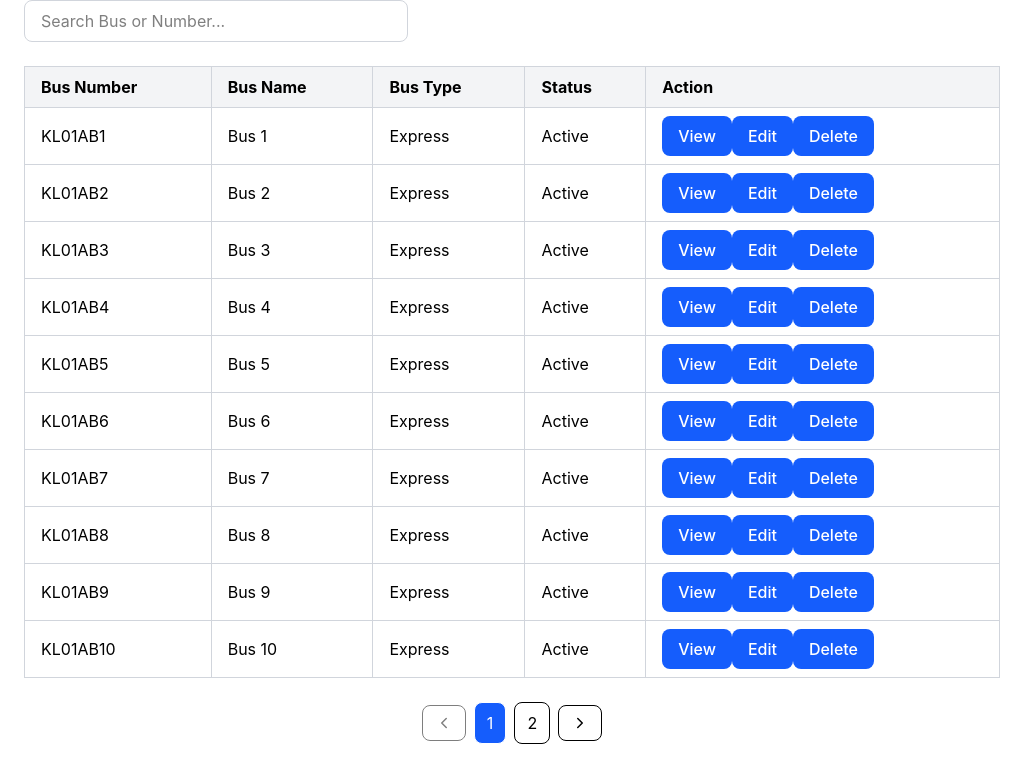
Test case: BusList - step 1 › should display previous page buses when Previous button is clicked
(page scrolled)
expect the text "KL01AB1" is shown: met, box x1=24 y1=108 x2=211 y2=164
Click the button named "next" at (580, 723), box x1=558 y1=705 x2=602 y2=741
(page scrolled)
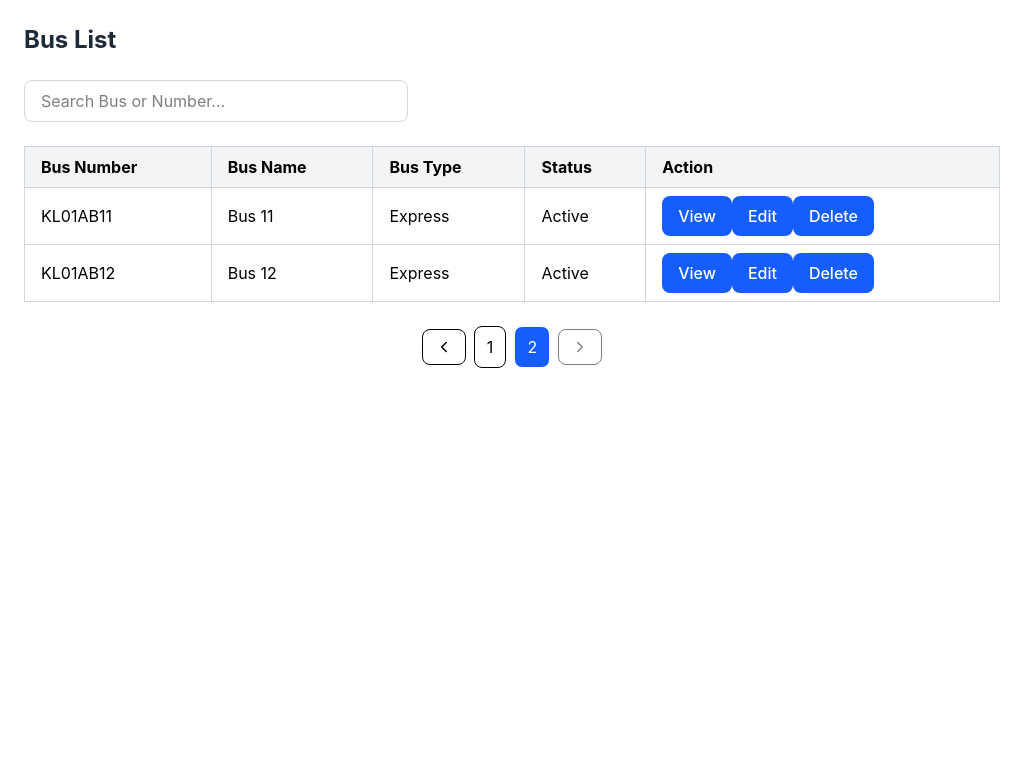
expect the text "KL01AB11" is shown: met, box x1=24 y1=188 x2=211 y2=244
Click the button named "previous" at (444, 347), box x1=422 y1=329 x2=466 y2=365
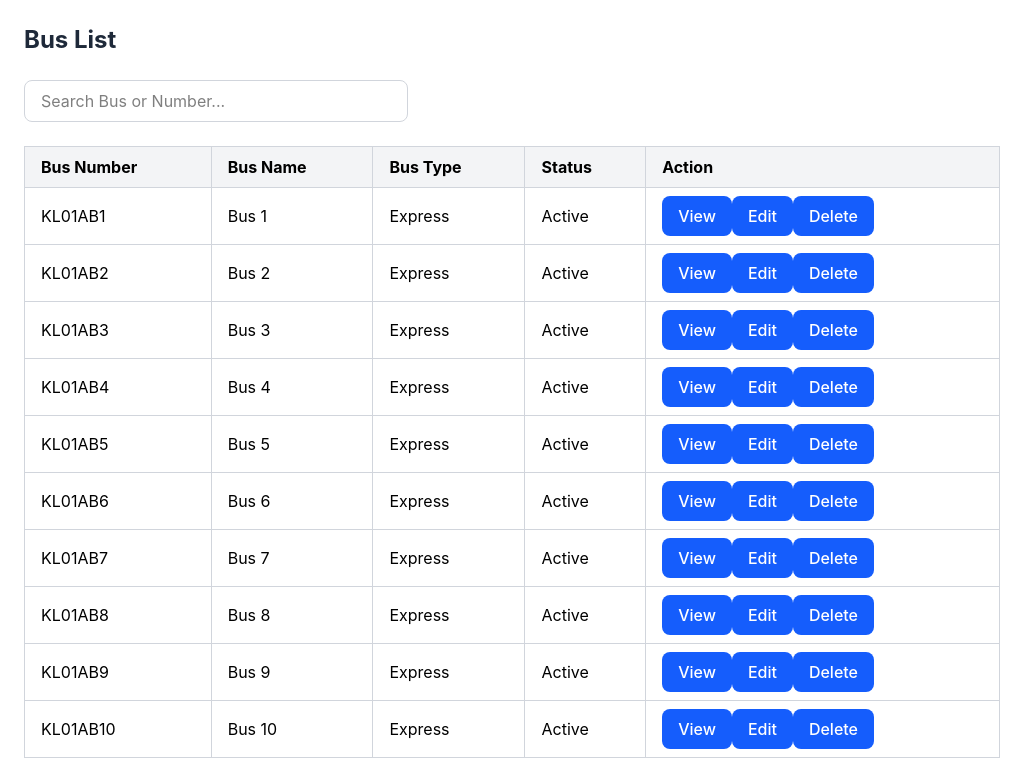
expect the text "KL01AB1" is shown: met, box x1=24 y1=188 x2=211 y2=244
expect the text "KL01AB11" is gone: met
